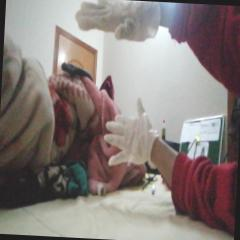gloved: (72, 0, 161, 44), (102, 96, 157, 167)
